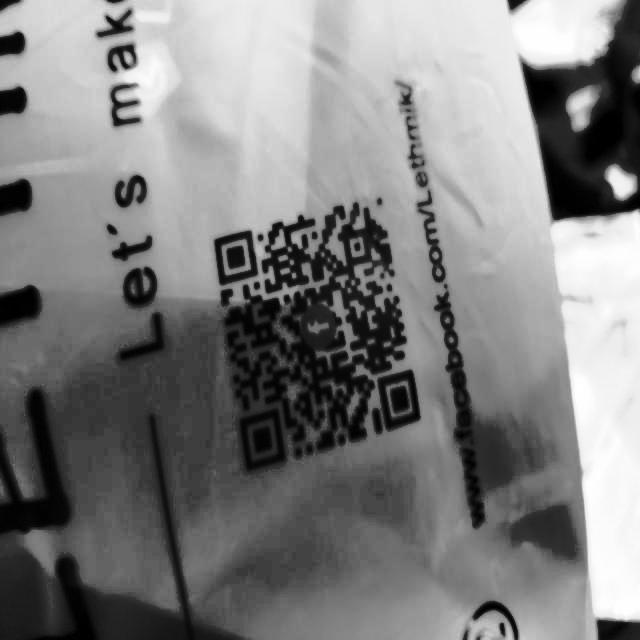qr_code: (196, 170, 428, 482)
